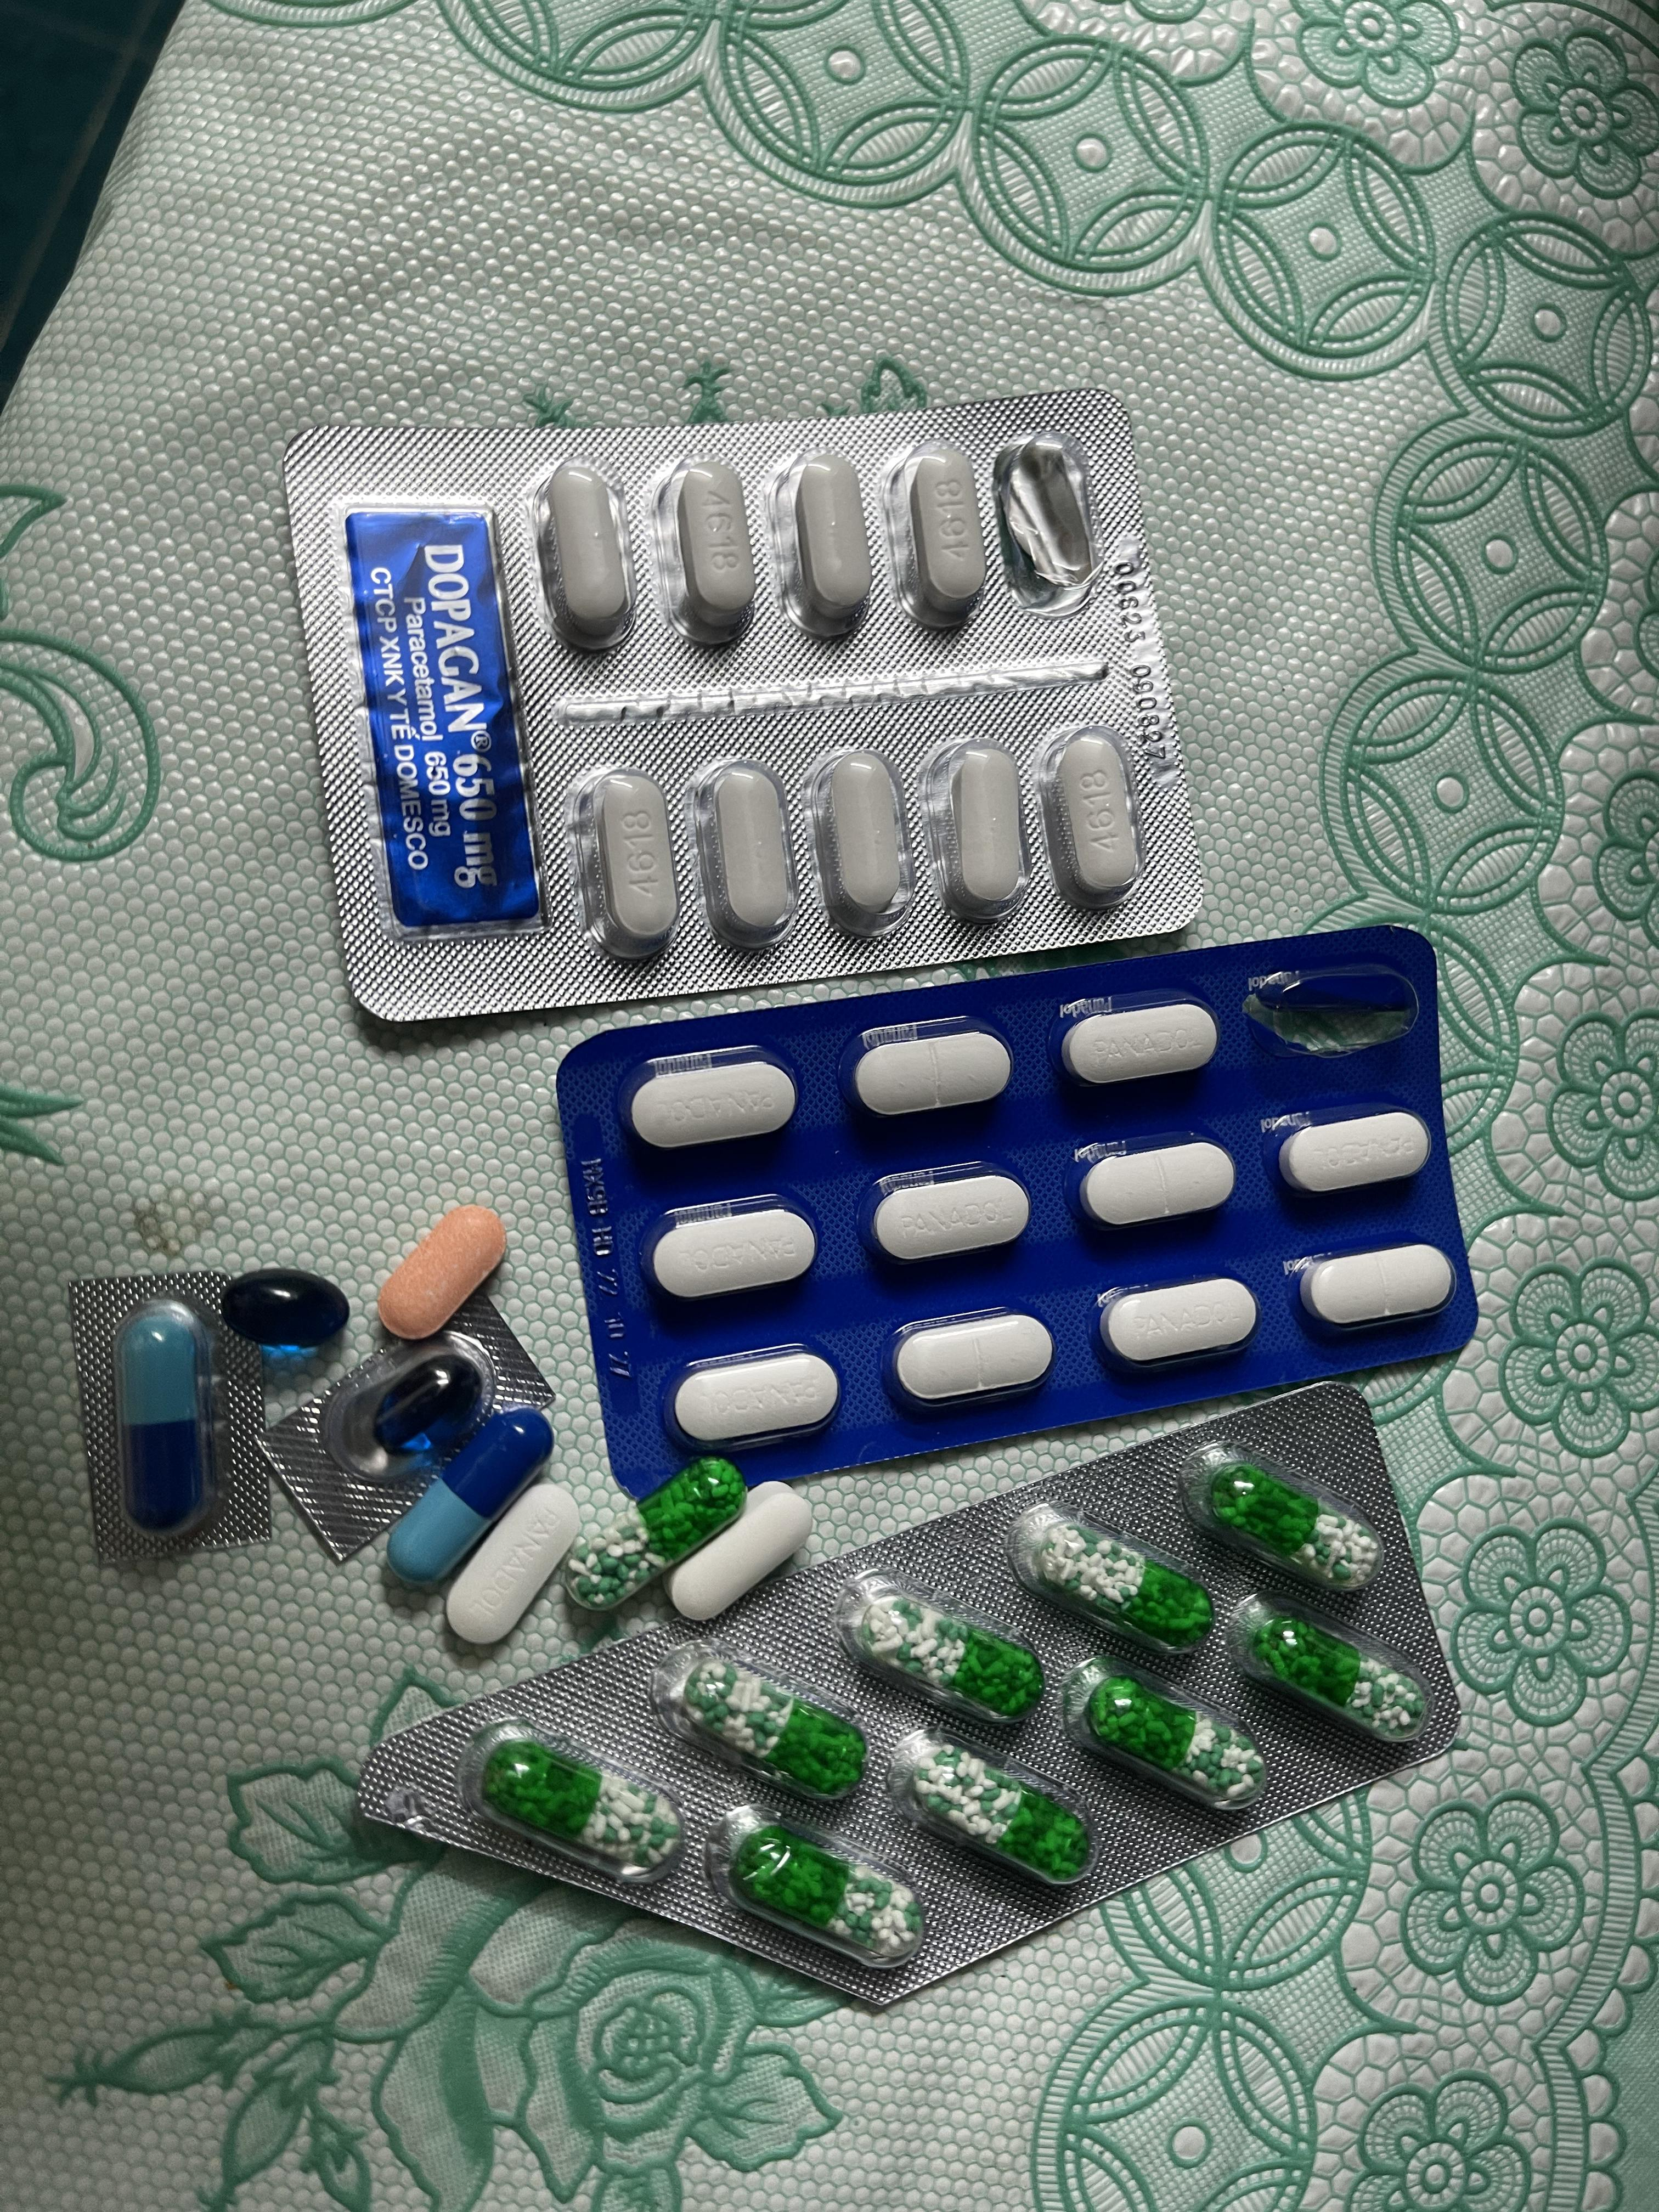Lincomyxin_500mg: (369, 1352, 481, 1454), (221, 1268, 352, 1353)
Loratadine_10mg: (378, 1205, 507, 1334)
Paracetamol_350mg: (443, 1480, 580, 1644), (673, 1346, 842, 1447), (889, 1310, 1058, 1411), (627, 1054, 798, 1151), (849, 1024, 1018, 1118), (650, 1205, 817, 1298), (870, 1172, 1037, 1264), (1077, 1136, 1236, 1230), (1297, 1242, 1460, 1332), (1101, 1277, 1258, 1364), (1277, 1109, 1436, 1195), (1060, 1005, 1220, 1085)
Paracetamol_500mg: (687, 761, 802, 953), (568, 768, 681, 958), (667, 1479, 816, 1618), (884, 442, 993, 629), (805, 747, 913, 935), (925, 737, 1033, 923), (770, 449, 875, 641), (1037, 726, 1145, 907), (657, 456, 760, 644), (535, 460, 636, 648)
Paracetamol_650mg: (566, 1460, 749, 1611), (904, 1743, 1093, 1883), (678, 1660, 863, 1797), (486, 1742, 678, 1872), (850, 1592, 1046, 1719), (728, 1827, 917, 1958), (1244, 1611, 1425, 1738), (1206, 1465, 1380, 1587), (1080, 1683, 1258, 1801), (1028, 1521, 1199, 1639)
pill: (385, 1407, 558, 1587), (115, 1301, 218, 1540)
